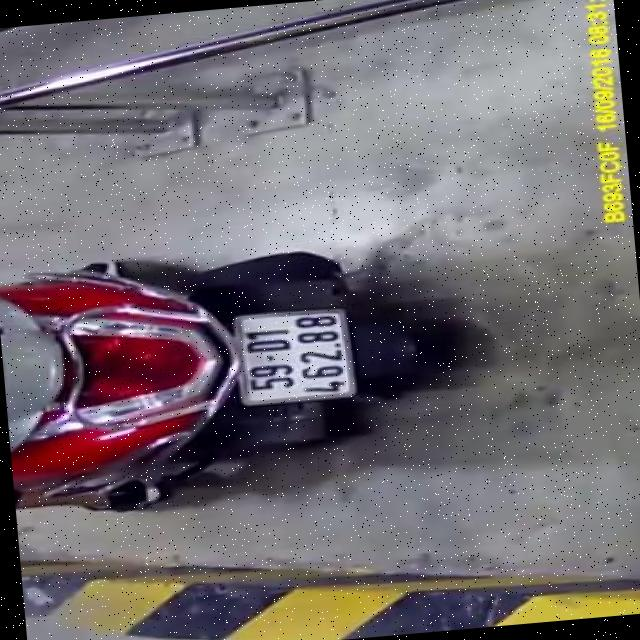license_plate: (235, 308, 354, 408)
